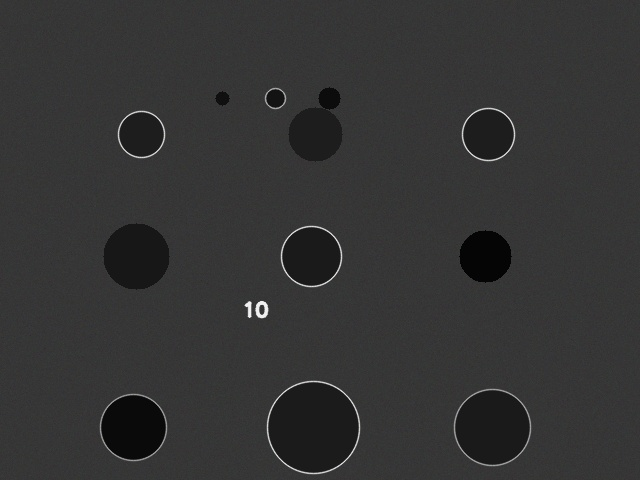hole: (267, 381, 359, 473), (454, 389, 530, 465), (103, 223, 169, 289), (100, 394, 166, 460), (281, 226, 341, 286), (288, 107, 342, 161), (462, 108, 514, 160), (459, 230, 511, 282), (118, 111, 164, 157), (318, 87, 340, 109), (265, 88, 285, 108), (215, 91, 229, 105)
